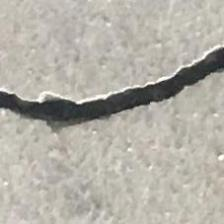Crack: (0, 40, 224, 148)
